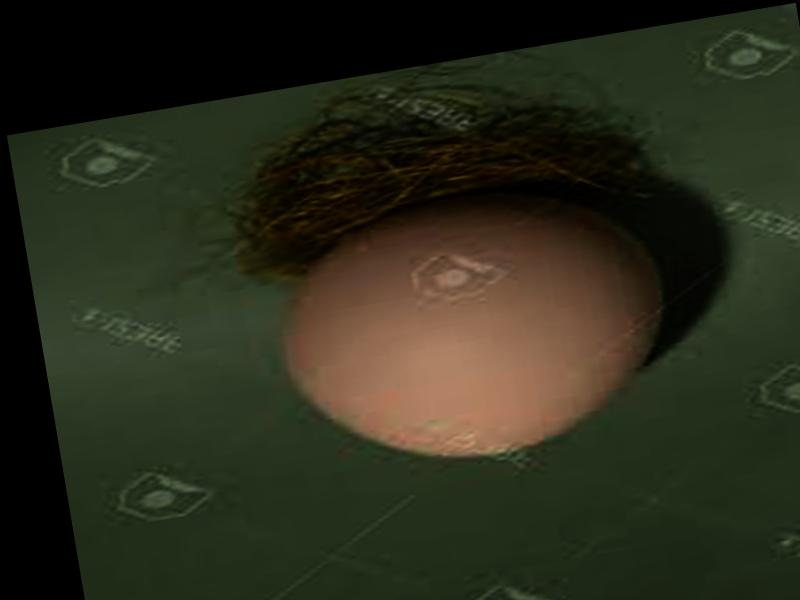Eggs: (266, 170, 684, 487)
